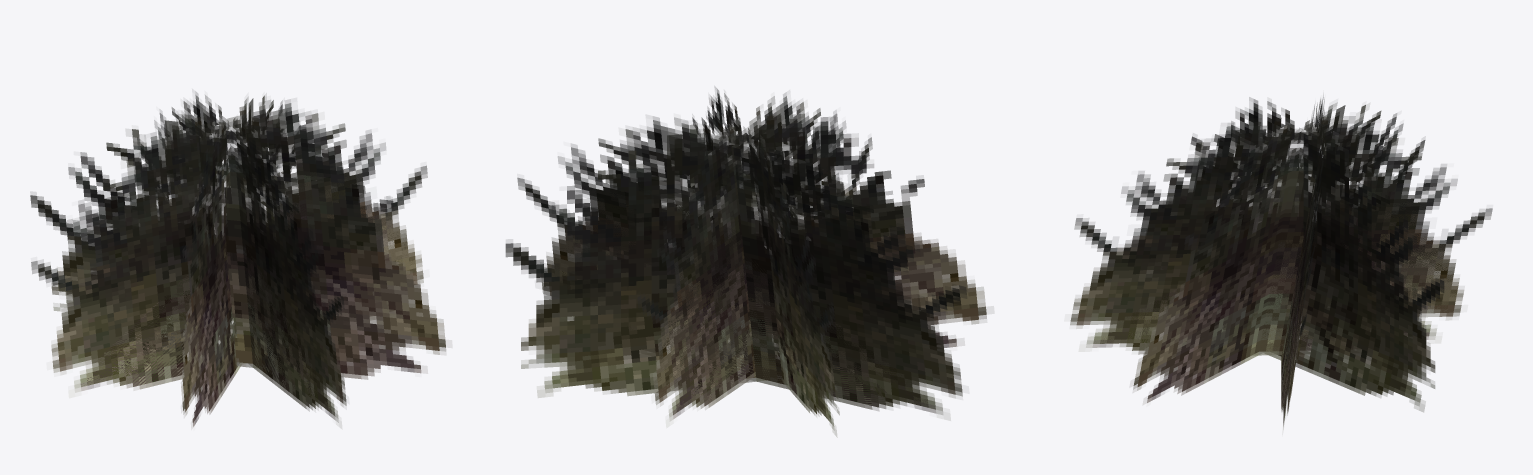
The model's file is Environment - Debris and Ruins - Rubble Mound - Debris - PMDsrtBrGr2_D.glb.
3 views of the same model, side by side, from view 1: azimuth 30°, elevation 25°; view 2: azimuth 150°, elevation 25°; view 3: azimuth 270°, elevation 25° (orthographic). The views are drawn at different scales.
Visible parts, largest first — view 1: PMDSRTBRGR2_D; view 2: PMDSRTBRGR2_D; view 3: PMDSRTBRGR2_D.
Boxes of the visible parts, x1,y1,x2,y2 form: PMDSRTBRGR2_D: (30,91,451,428); PMDSRTBRGR2_D: (505,87,993,437); PMDSRTBRGR2_D: (1070,95,1492,429).
Size of the model in its own units: 12.73 by 7.57 by 12.73.
1 material, 1 textured.
